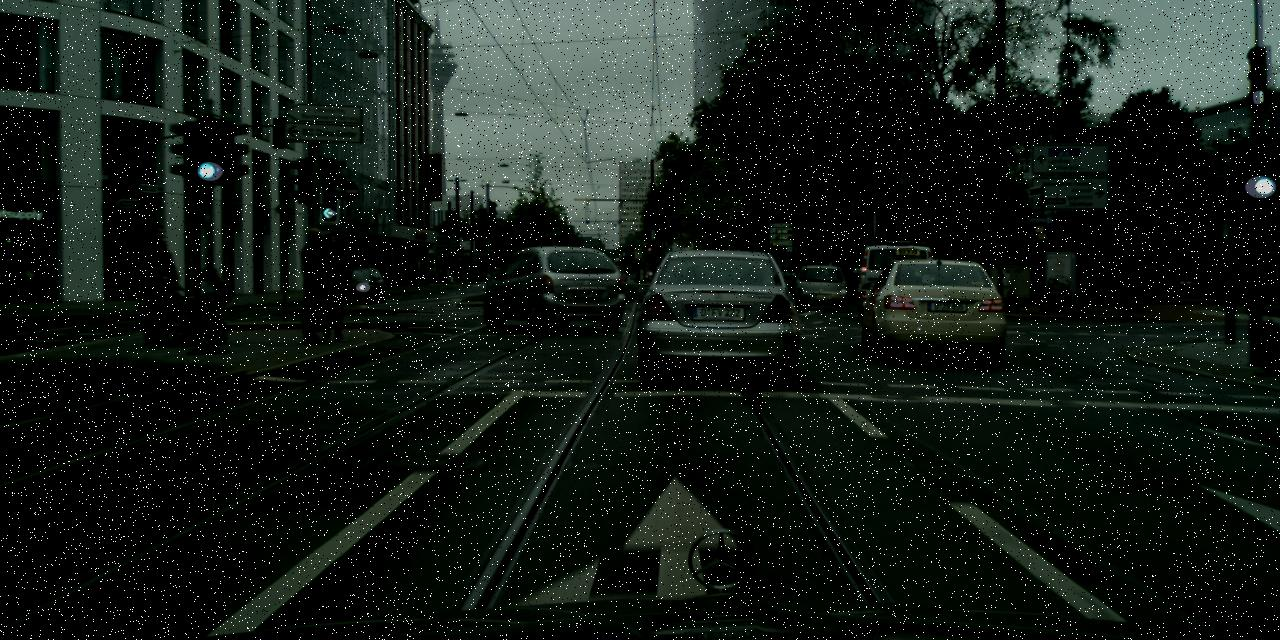ped: (289, 227, 336, 344), (140, 225, 180, 346), (312, 232, 356, 341)
